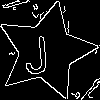J: (21, 26, 51, 75)
